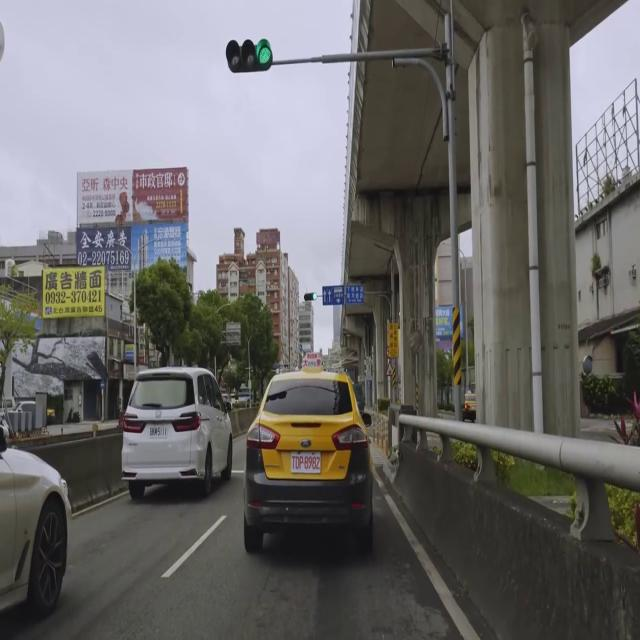green light: (224, 38, 273, 72), (304, 293, 318, 301)
